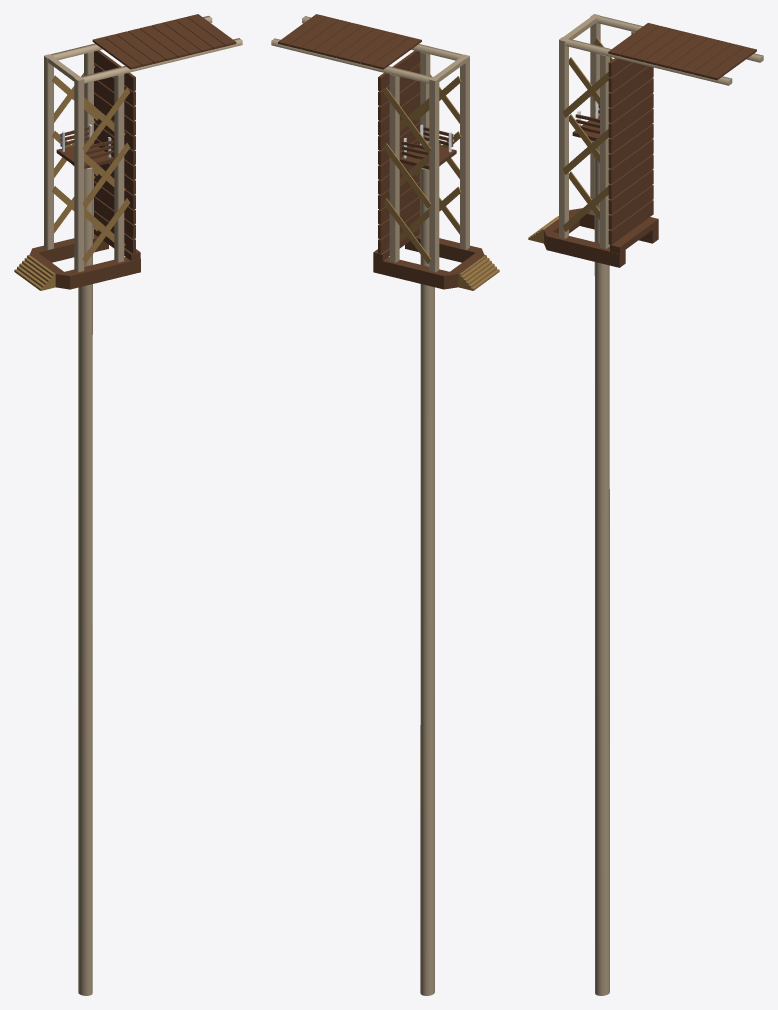
File: NewLift2.2.fbx
3 views of the same model, side by side, from view 1: azimuth 30°, elevation 25°; view 2: azimuth 150°, elevation 25°; view 3: azimuth 330°, elevation 25° (orthographic). The views are drawn at different scales.
Parts seen in each view (by area): view 1: MainPillar, Pillars, BaseWall, Bridge, Xs, NewLift2_0, Stairs; view 2: MainPillar, Pillars, BaseWall, Bridge, Xs, NewLift2_0, Stairs; view 3: MainPillar, BaseWall, Pillars, Bridge, NewLift2_0, Xs.
Boxes of the visible parts, x1,y1,x2,y2 form: MainPillar: (78,168,92,995); Pillars: (44,16,242,272); BaseWall: (94,50,135,253); Bridge: (92,14,236,69); Xs: (52,65,130,263); NewLift2_0: (29,229,140,289); Stairs: (14,255,55,290); MainPillar: (420,169,434,995); Pillars: (271,16,469,272); BaseWall: (378,50,420,253); Bridge: (278,14,421,69); Xs: (383,64,461,263); NewLift2_0: (373,229,484,289); Stairs: (458,255,499,290); MainPillar: (594,145,609,995); BaseWall: (608,58,653,244); Pillars: (559,14,763,248); Bridge: (608,23,756,80); NewLift2_0: (544,208,658,267); Xs: (562,38,612,231).
Size of the model in its own units: 3142 by 14115 by 1120.
